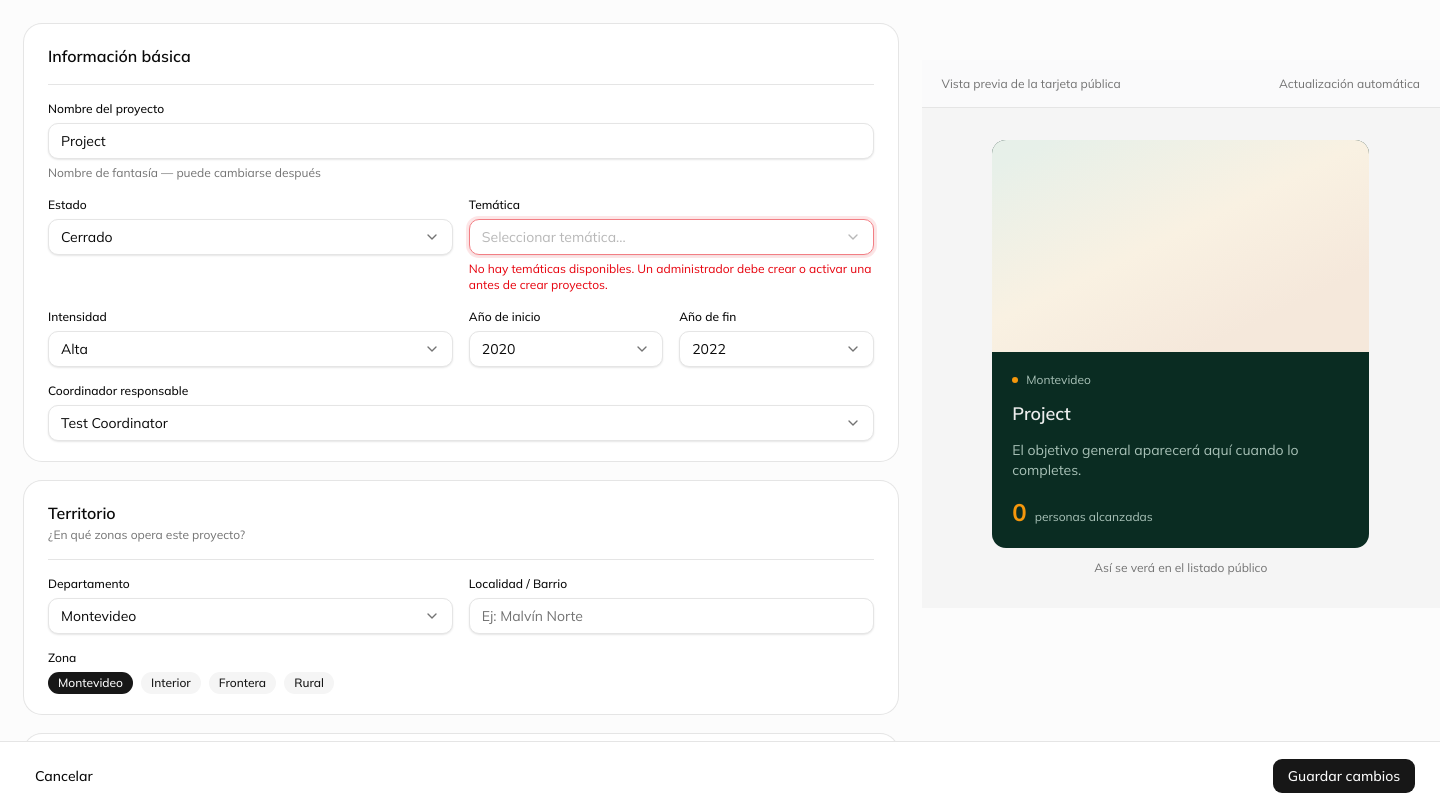
limits the closing year to years at or after the start year
Click the dropdown named "Año de fin" at [776, 349], box [679,331,874,367]
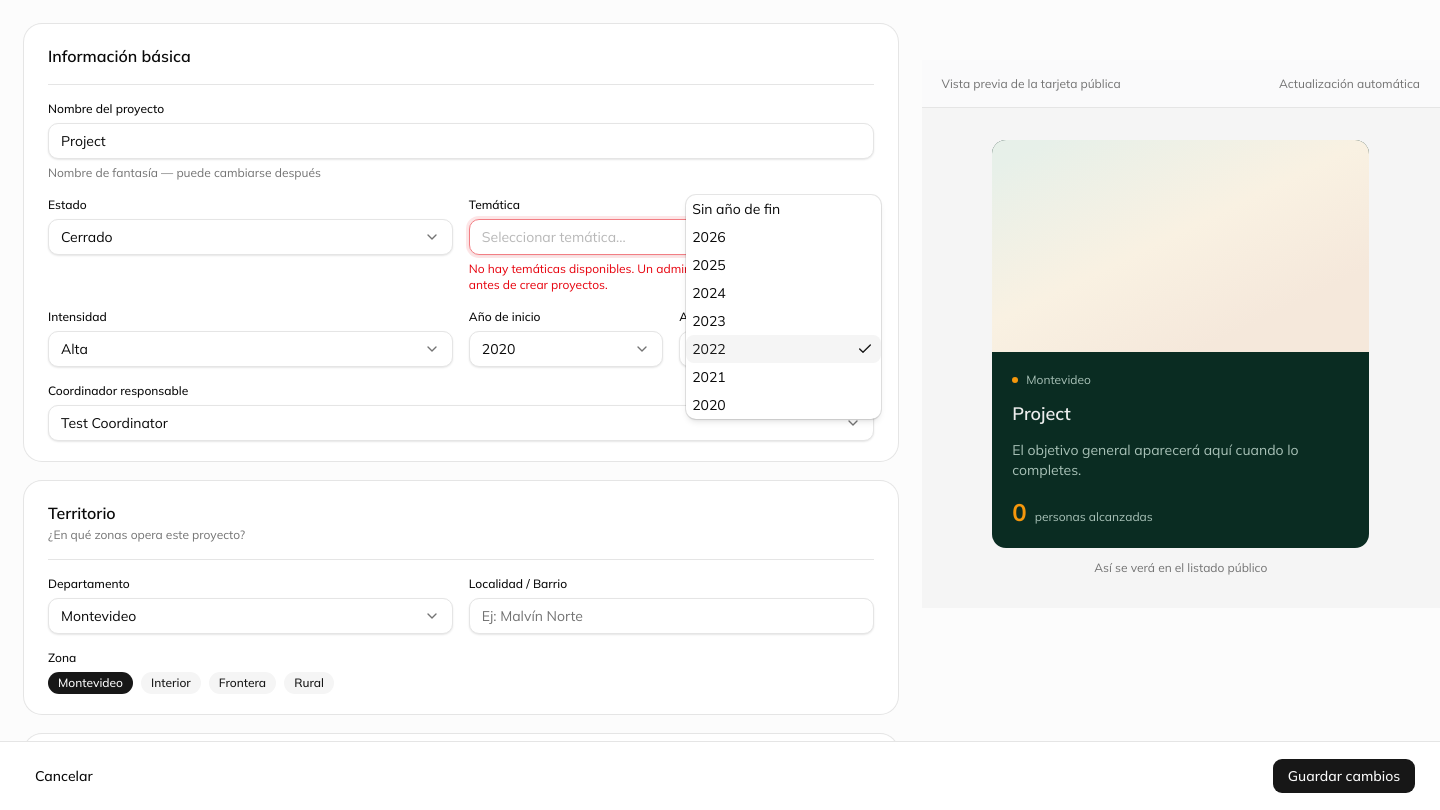
Check: the option "2020" is shown, box [692,396,726,414]
Check: the option "2026" is shown, box [692,228,726,246]
